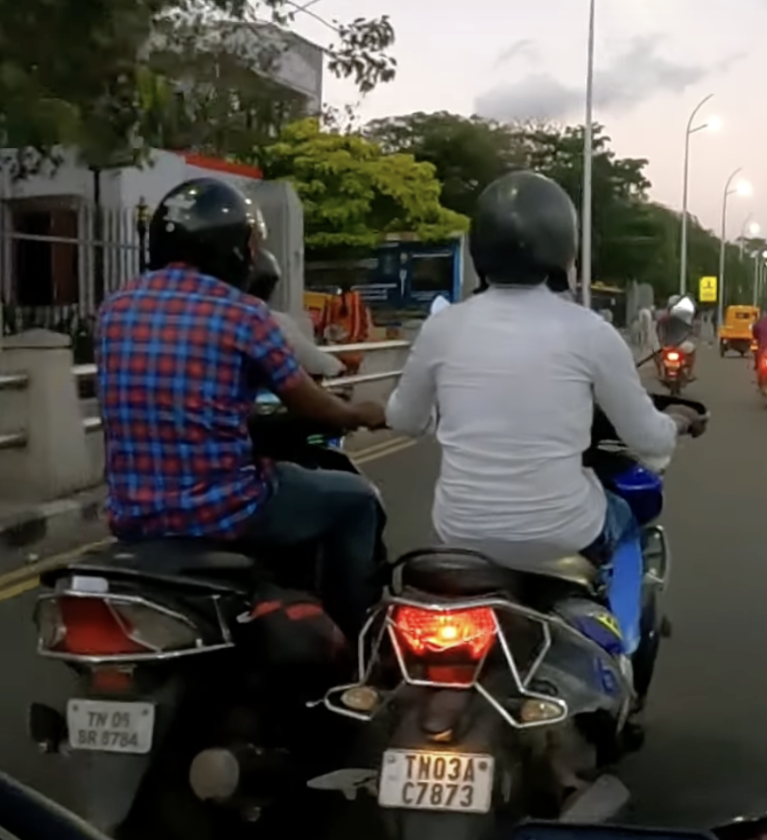motor: (30, 370, 380, 835), (383, 377, 708, 825)
number: (377, 746, 491, 811), (66, 697, 153, 752)
with helmet: (147, 173, 269, 286), (470, 167, 578, 290)
